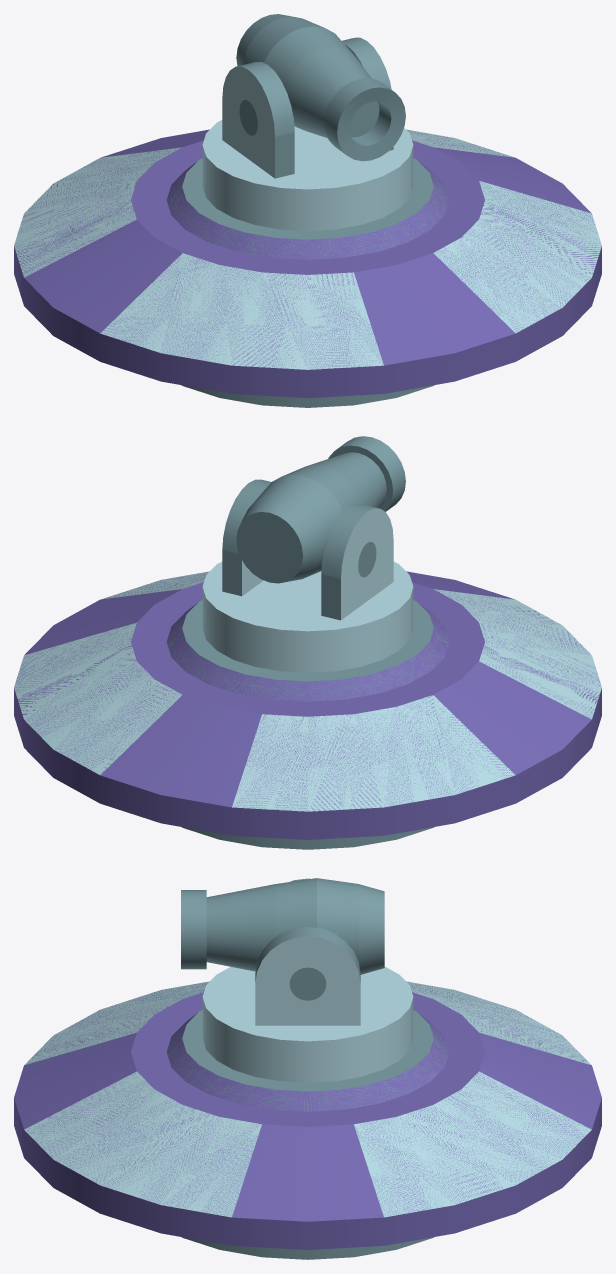
Rendered from enemy_ufoPurpleWeapon.dae.
3 renders of one model, top to bottom at view 1: azimuth 30°, elevation 25°; view 2: azimuth 150°, elevation 25°; view 3: azimuth 270°, elevation 25°, orthographic.
Parts seen in each view (by area): view 1: enemy_ufoPurpleWeapon, cannon; view 2: enemy_ufoPurpleWeapon, cannon; view 3: enemy_ufoPurpleWeapon, cannon.
Boxes of the visible parts, <box> form: enemy_ufoPurpleWeapon: <box>14,37,601,407</box>; cannon: <box>236,14,405,161</box>; enemy_ufoPurpleWeapon: <box>14,479,601,849</box>; cannon: <box>236,436,405,583</box>; enemy_ufoPurpleWeapon: <box>14,878,601,1259</box>; cannon: <box>181,878,384,974</box>.
Bounding box in the file's own units: 1 × 0.5672 × 1.
